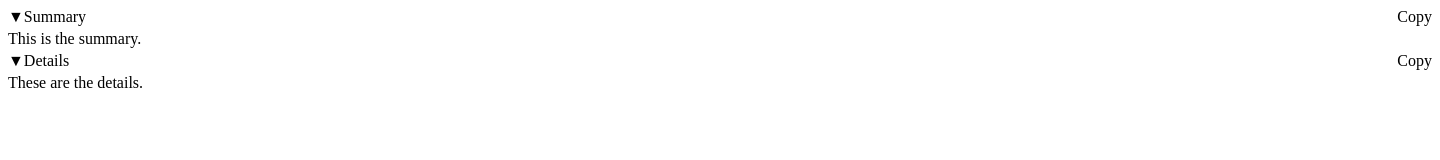
Test: ResultDisplay › collapses a section when toggle is clicked
The width and height of the screenshot is (1440, 160).
Step 1. Click the button "▼ Summary" → click(47, 17), box [8,8,86,26]
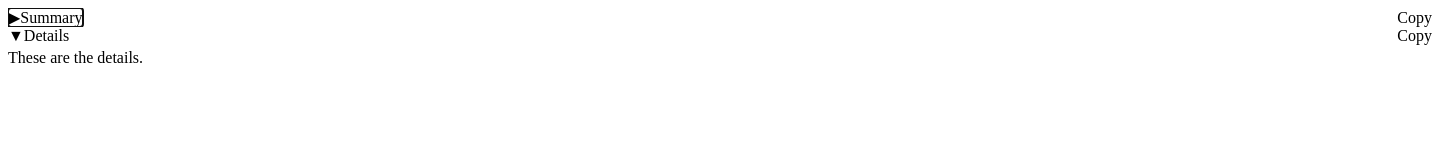
Expected: the text "These are the details." is shown, [8,49,143,66]
Expected: the text "This is the summary." is gone
